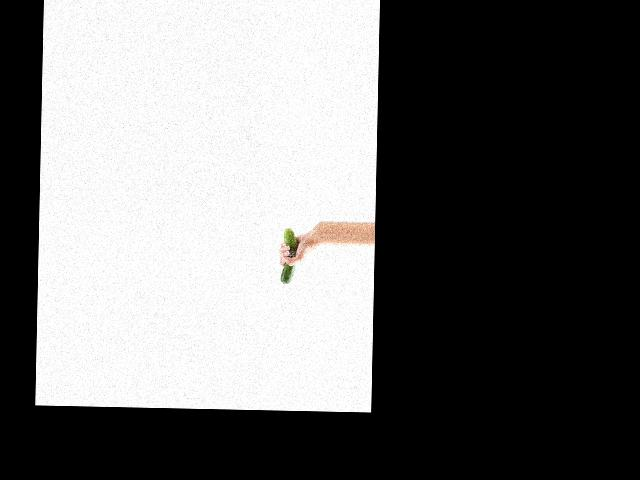cucumber: (279, 228, 297, 284)
